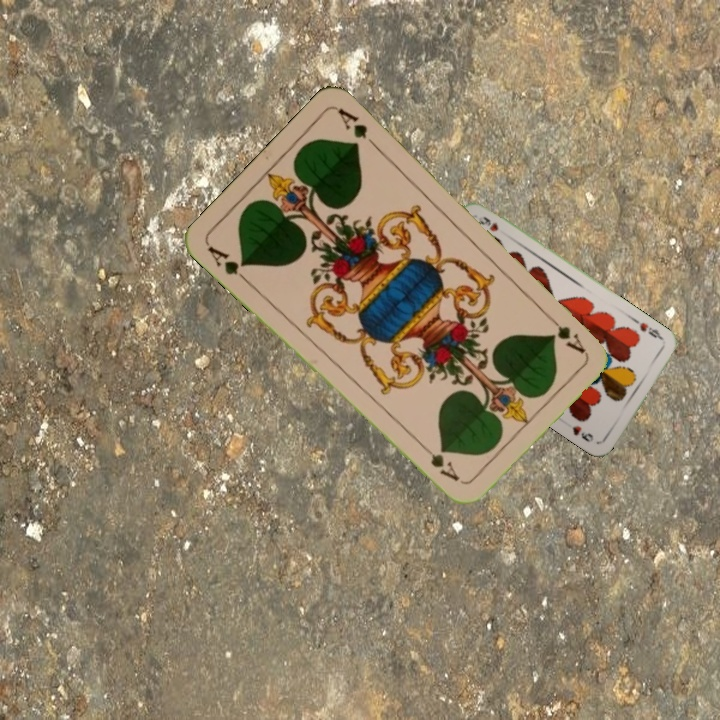GA: (540, 309, 588, 356), (203, 241, 252, 286)
H9: (631, 315, 666, 343)
